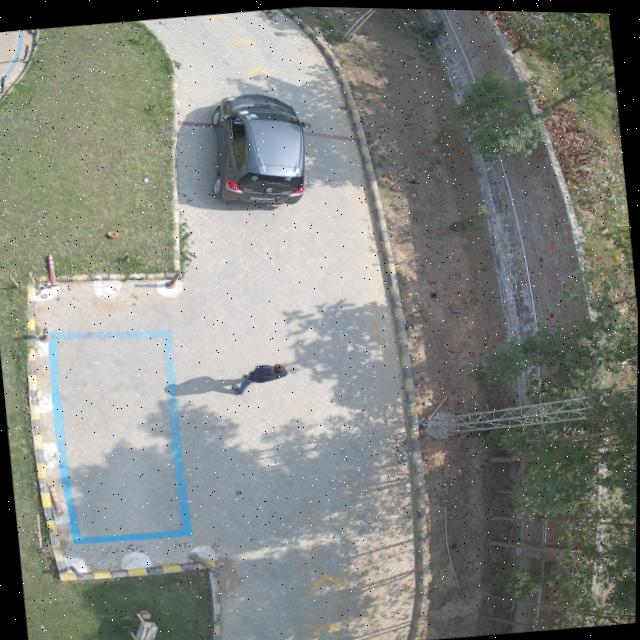car: (216, 92, 304, 205)
